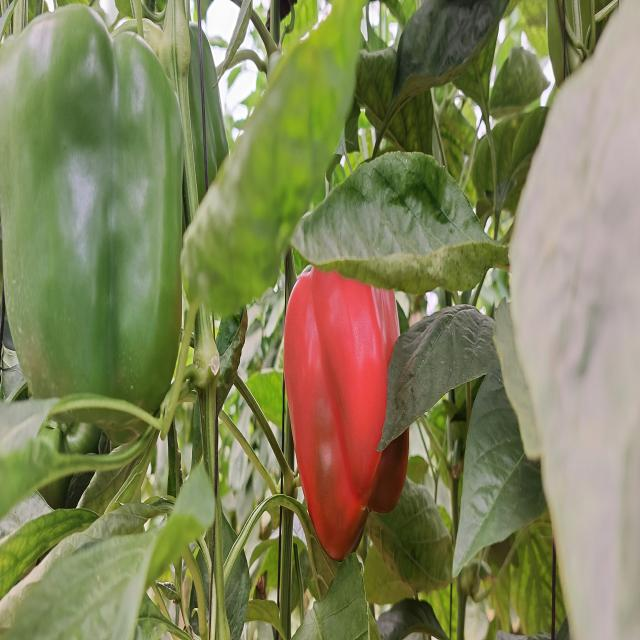Green--Not-ready-to-harvest: (0, 21, 185, 470)
Red-Ready-to-Harvest: (286, 270, 414, 559)
